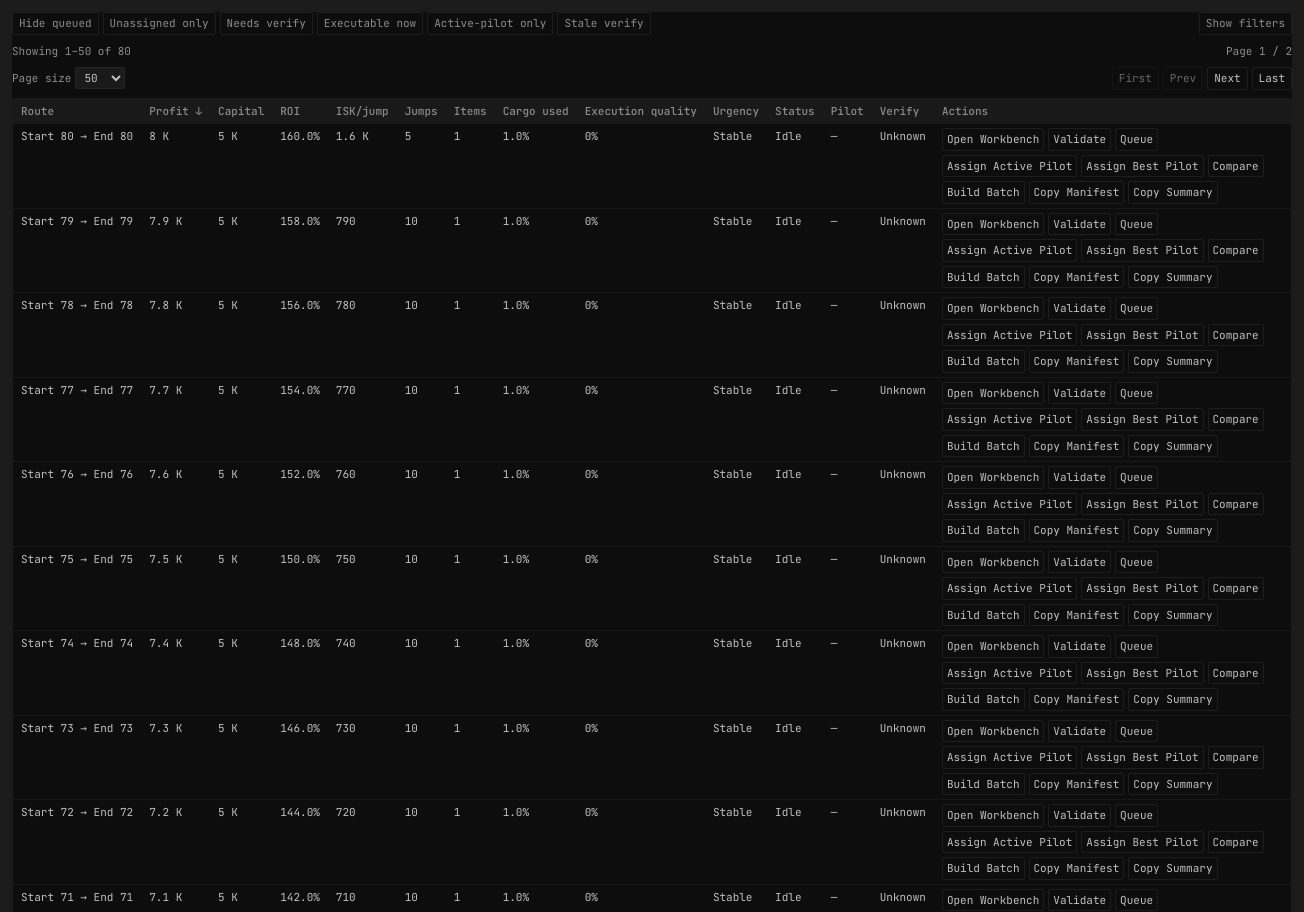
Test: RadiusRouteGroupsPanel › resets page to zero on page-size change
The image size is (1304, 912).
Click the button "Next" at (1227, 78), box x1=1207 y1=67 x2=1248 y2=90
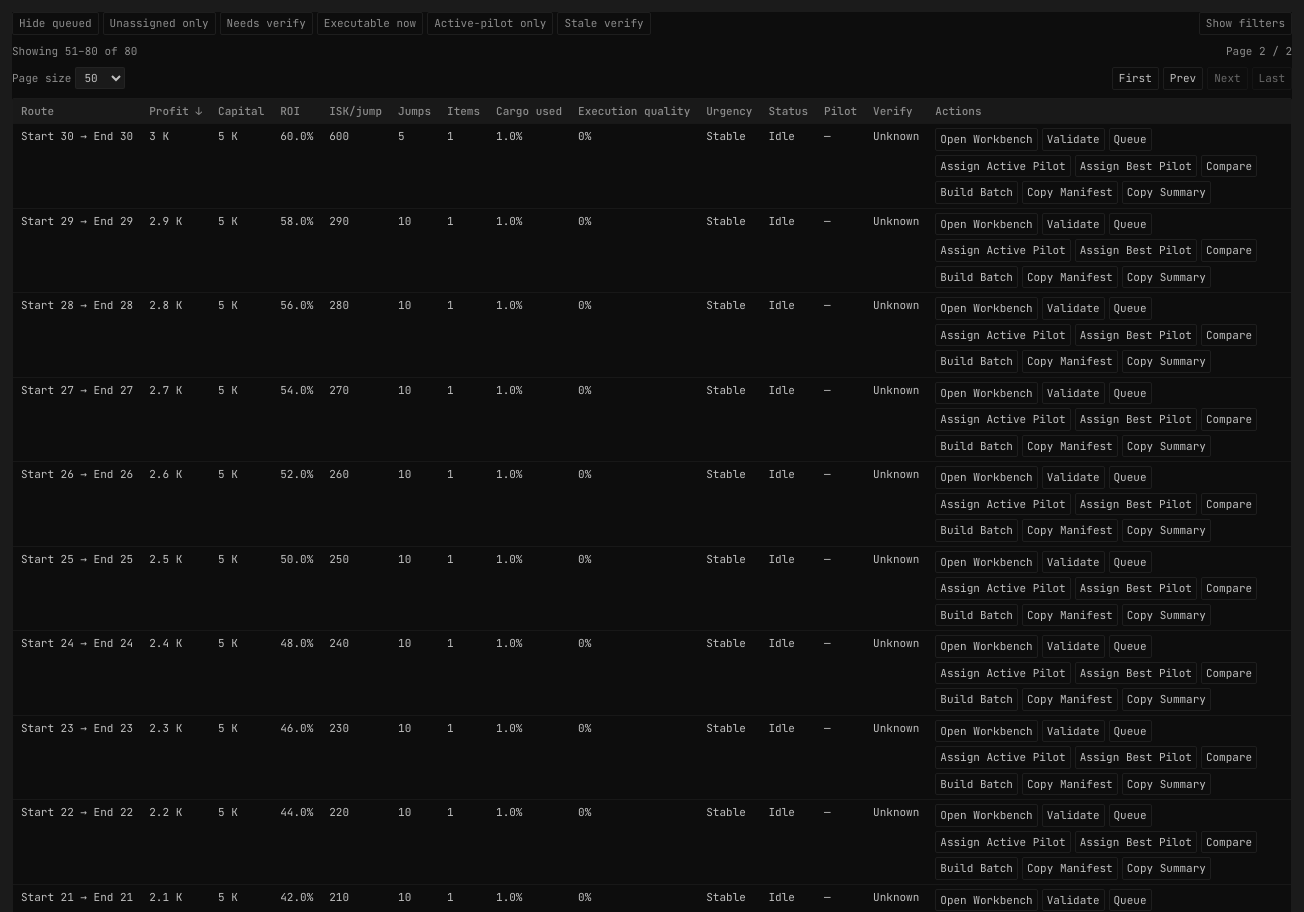
Now the text "Page 2 / 2" is shown, box x1=1226 y1=42 x2=1292 y2=59
Select "25" in the dropdown labelled "Page size" at (100, 78), box x1=75 y1=67 x2=125 y2=89
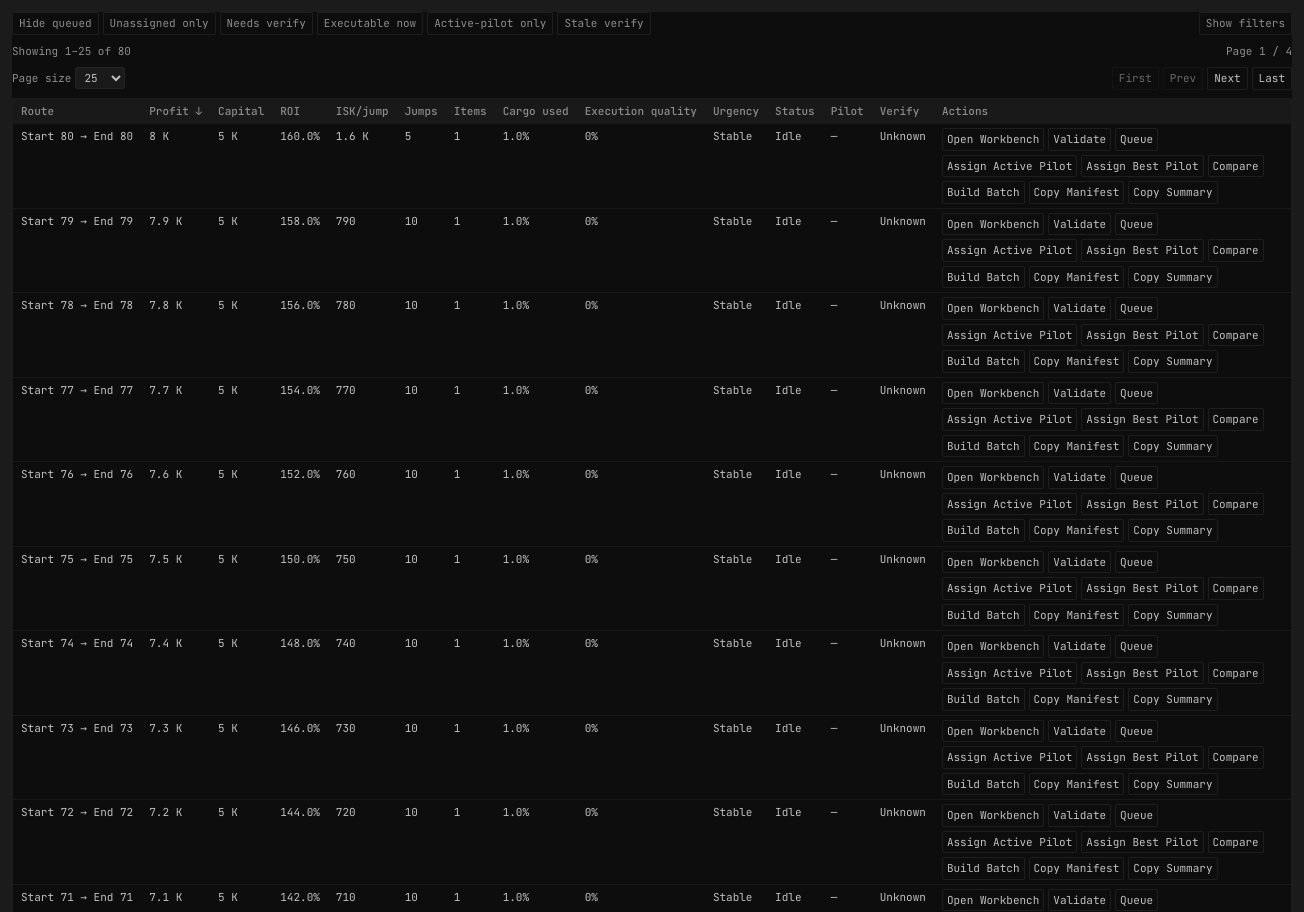
Now the text "Page 1 / 4" is shown, box x1=1226 y1=42 x2=1292 y2=59
